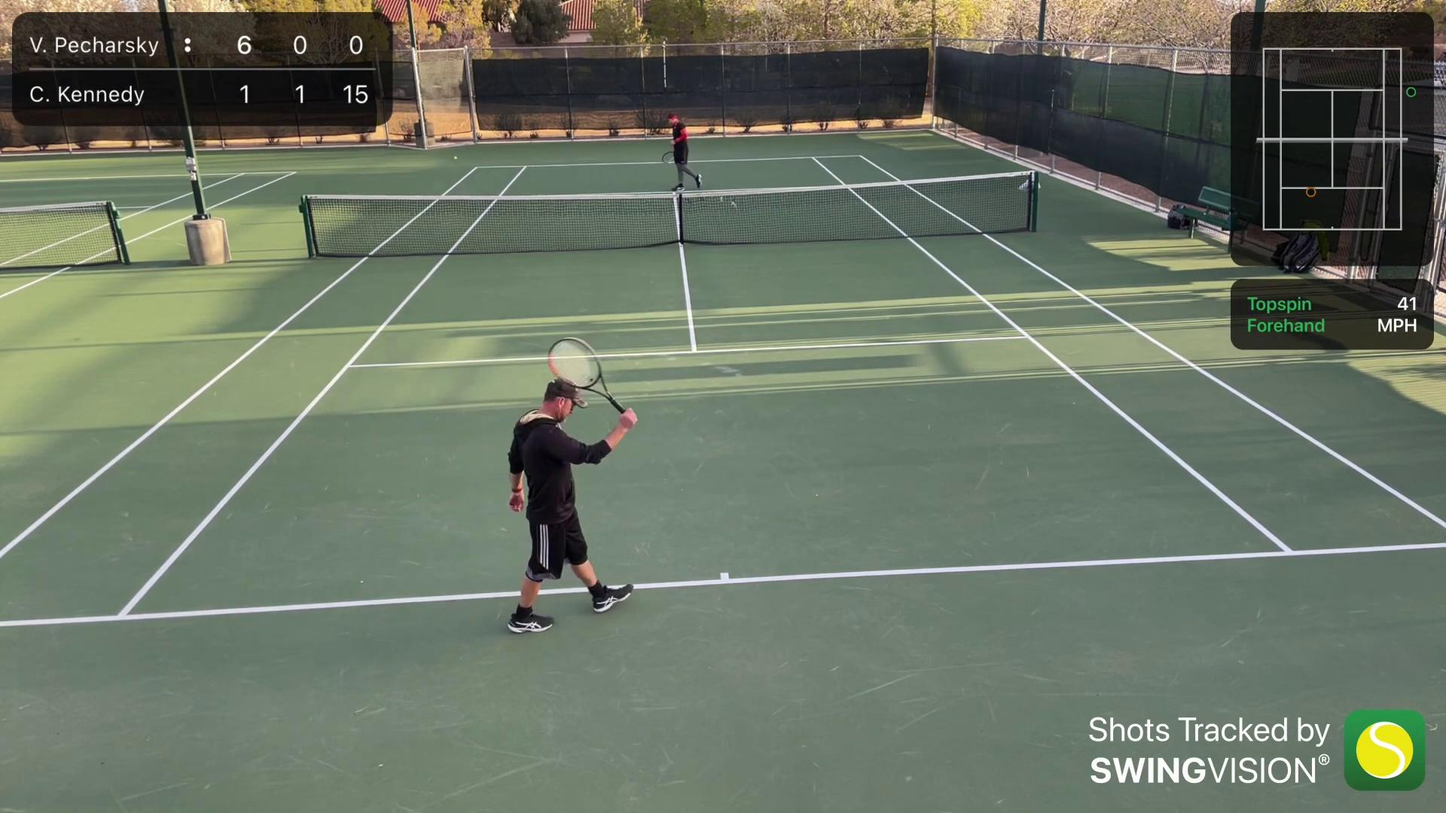ball: (453, 155, 459, 161), (937, 125, 943, 130)
